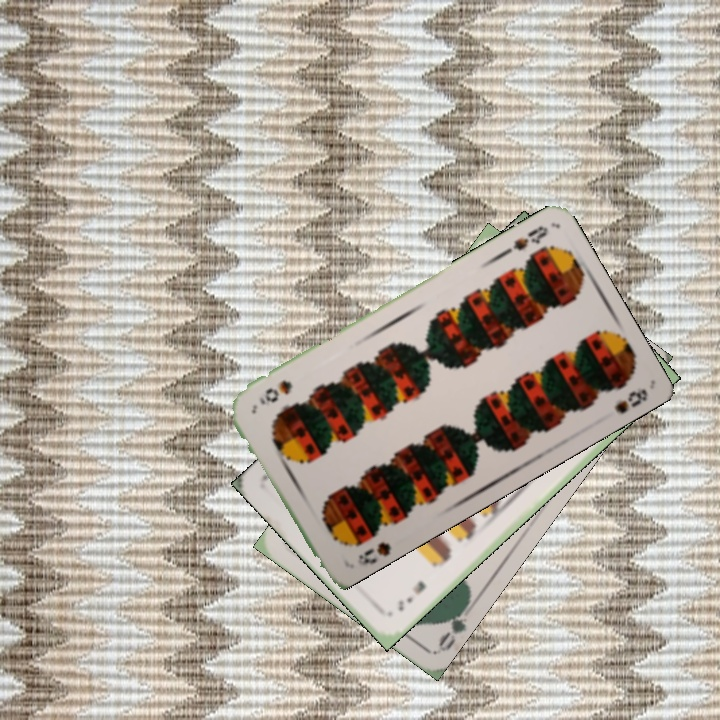E7: (393, 576, 429, 614)
GO: (434, 598, 473, 654)
S8: (497, 221, 551, 260), (353, 537, 394, 568)
